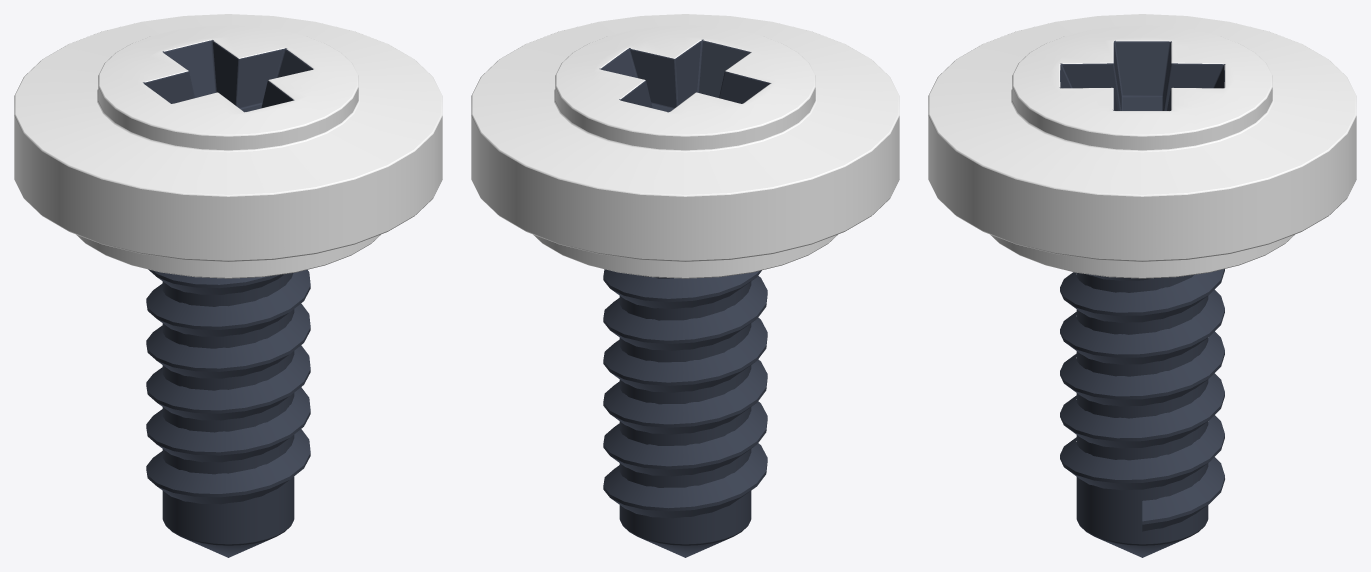
File: screw.glb
3 renders of one model, left to right at view 1: azimuth 30°, elevation 25°; view 2: azimuth 150°, elevation 25°; view 3: azimuth 270°, elevation 25°, orthographic.
Parts seen in each view (by area): view 1: screw; view 2: screw; view 3: screw.
Boxes of the visible parts, left/top/right/bottom form: screw: left=14, top=14, right=442, bottom=557; screw: left=471, top=14, right=899, bottom=557; screw: left=928, top=14, right=1356, bottom=557.
Size of the model in its own units: 0.56 by 0.6921 by 0.5569.
